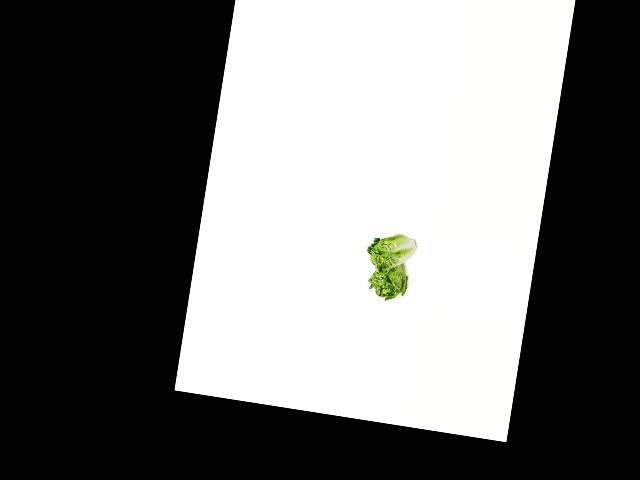lettuce: (365, 255, 416, 304)
